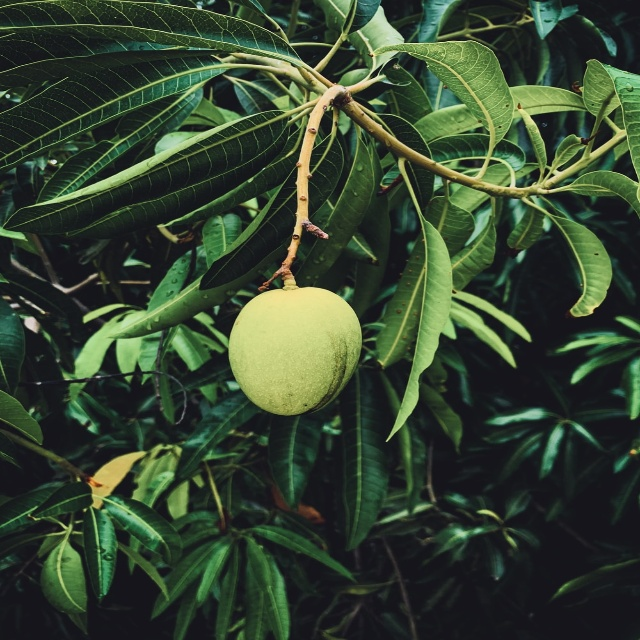mango: (237, 290, 364, 413)
